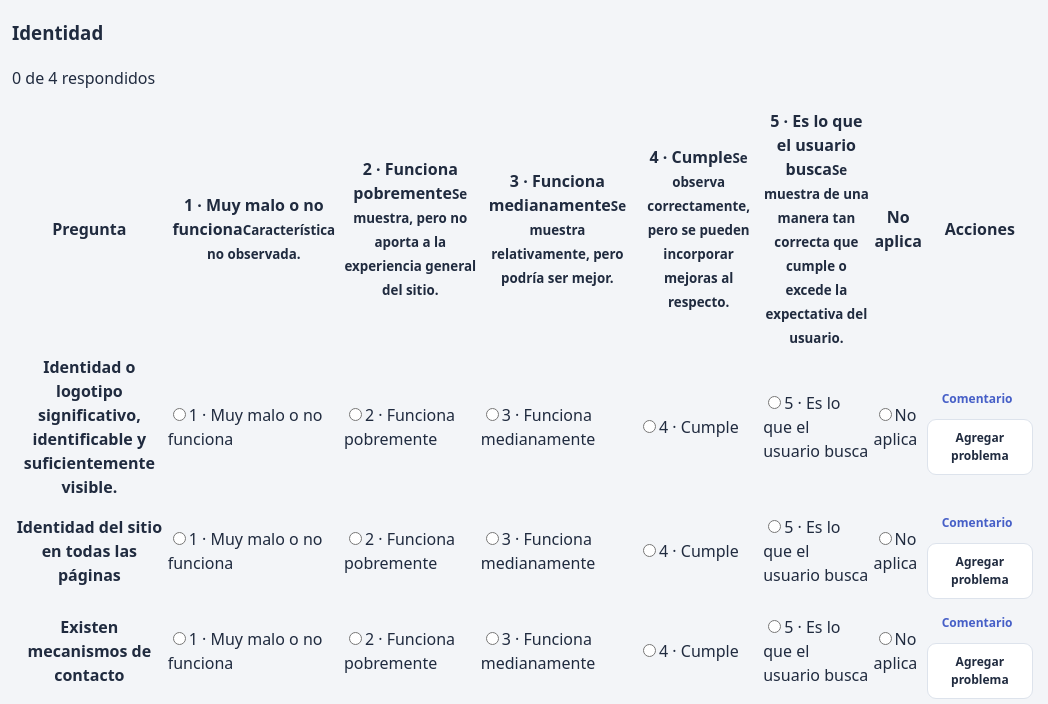
it: MatrizItem › califica una fila y cuenta el avance
This screenshot has width=1048, height=704.
Click the 1st radio button labelled "No aplica". click: [885, 414]
box: [879,408,892,420]
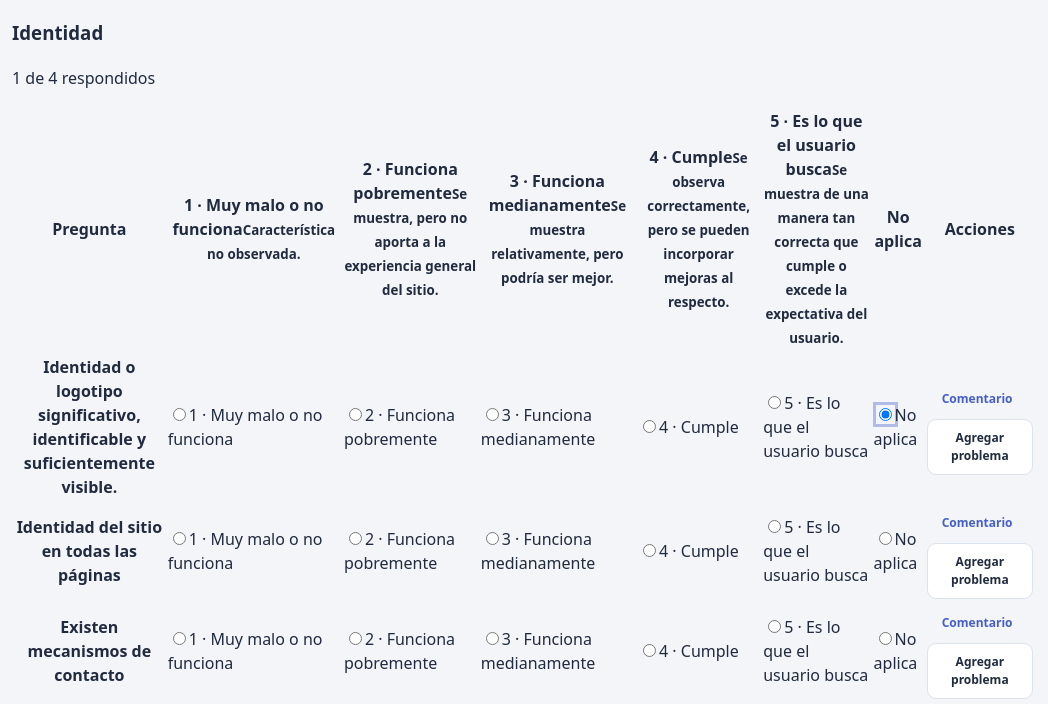
Now the 1st radio button labelled "No aplica" is checked, box [879,408,892,420]
Now the text "1 de 4 respondidos" is shown, box [12,66,155,88]
